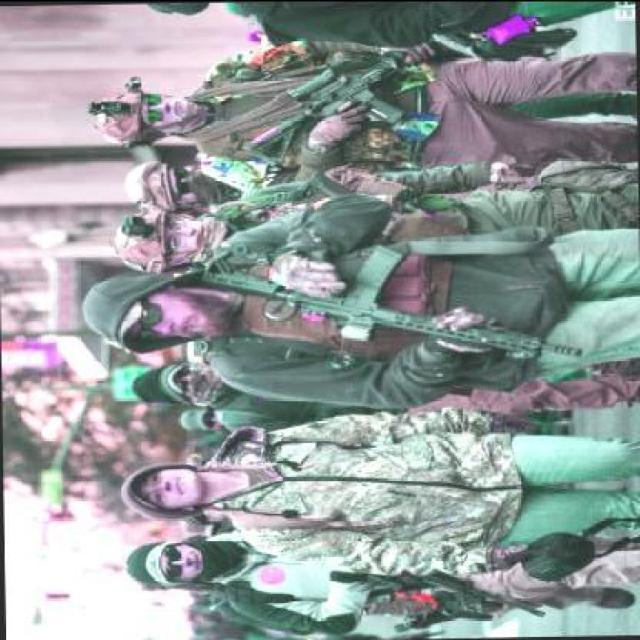rifle: (186, 258, 588, 398), (314, 556, 640, 640)
